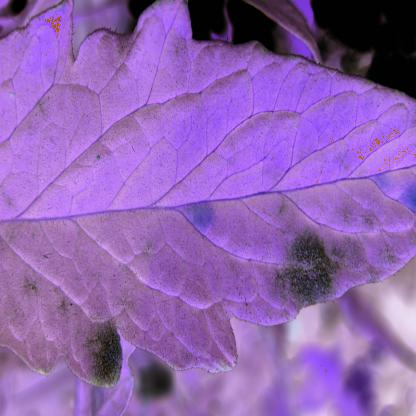Tomato mold leaf: (0, 4, 415, 393)
